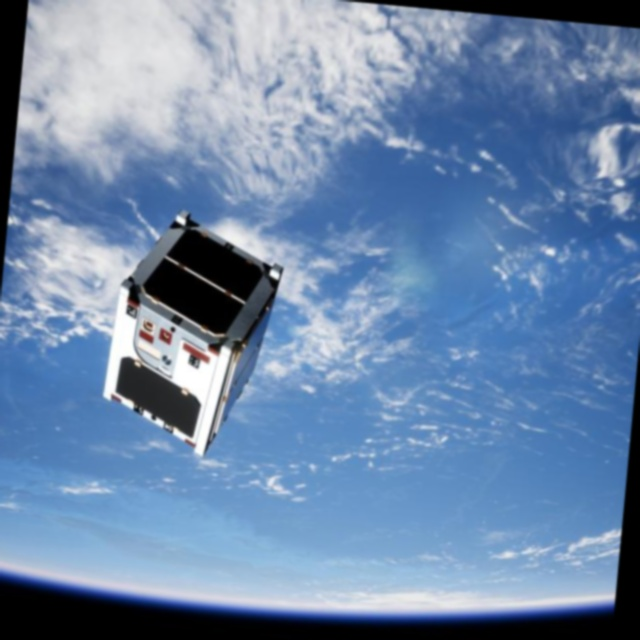medium_debris: (95, 196, 299, 466)
